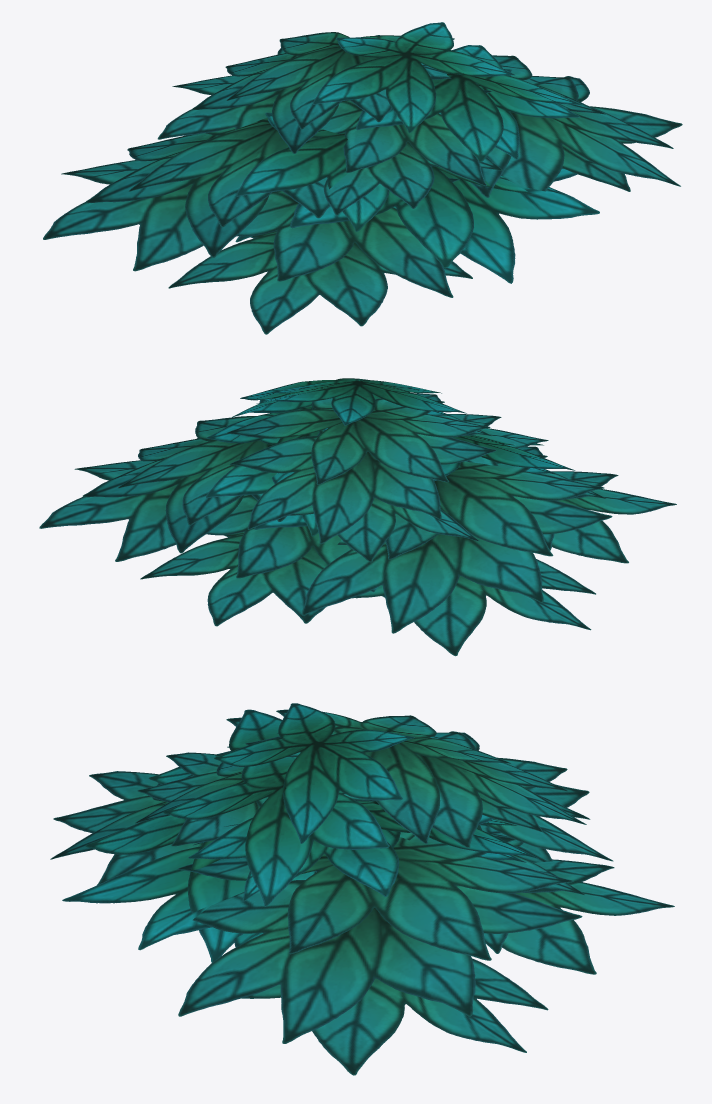
File: bush6.fbx
The picture shows the model from 3 angles, top to bottom: view 1: azimuth 30°, elevation 25°; view 2: azimuth 150°, elevation 25°; view 3: azimuth 270°, elevation 25°; orthographic projection. The views are drawn at different scales.
Visible parts, largest first — view 1: polySurface667; view 2: polySurface667; view 3: polySurface667.
Boxes of the visible parts, box(x1,y1,x2,y2) form: polySurface667: box(43, 22, 682, 334); polySurface667: box(39, 378, 676, 656); polySurface667: box(50, 703, 674, 1075).
Bounding box in the file's own units: 1.43 × 0.3543 × 1.18.
